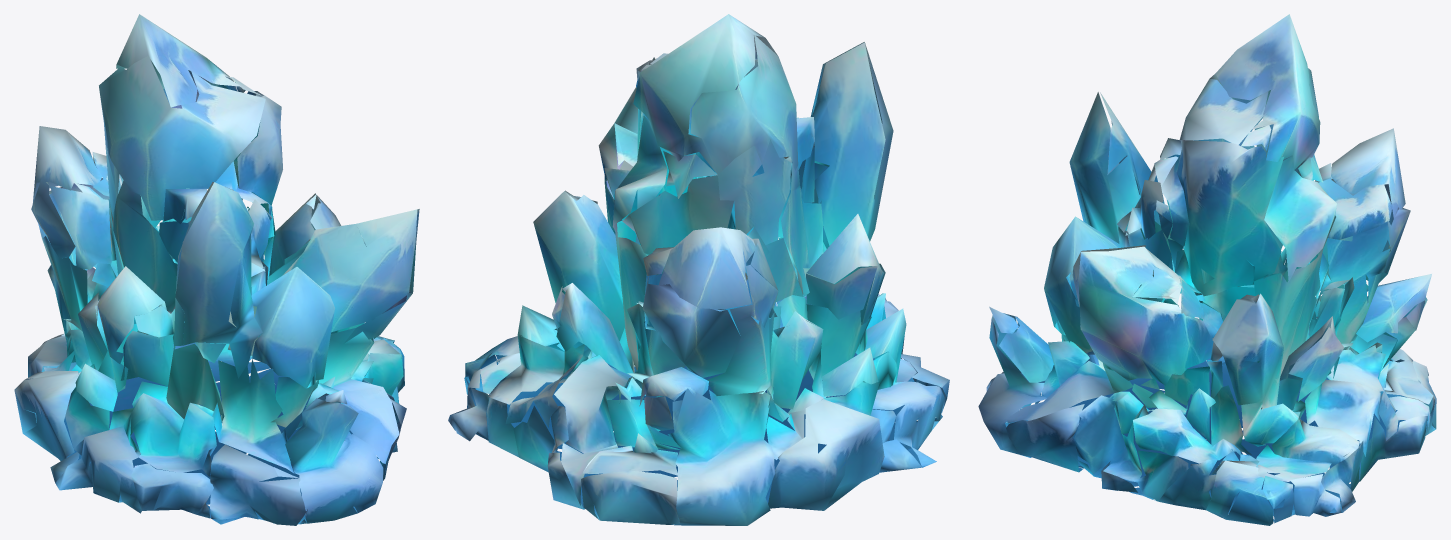
File: cristal.glb
The picture shows the model from 3 angles, left to right: view 1: azimuth 30°, elevation 25°; view 2: azimuth 150°, elevation 25°; view 3: azimuth 270°, elevation 25°; orthographic projection. The views are drawn at different scales.
Visible parts, largest first — view 1: cristal; view 2: cristal; view 3: cristal.
Boxes of the visible parts, left/top/right/bottom form: cristal: left=14, top=14, right=419, bottom=525; cristal: left=448, top=14, right=949, bottom=525; cristal: left=978, top=14, right=1436, bottom=525.
Size of the model in its own units: 0.9676 by 1 by 1.04.
1 material, 1 textured.
